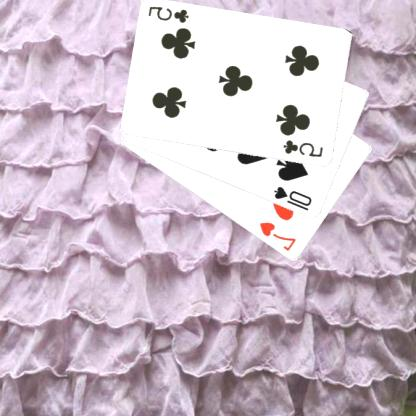10S: (273, 184, 315, 212)
5C: (282, 137, 326, 159), (148, 3, 192, 24)
7H: (258, 219, 299, 253)
